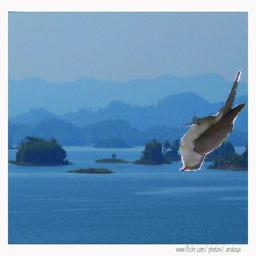Cuckoo: (180, 69, 247, 172)
